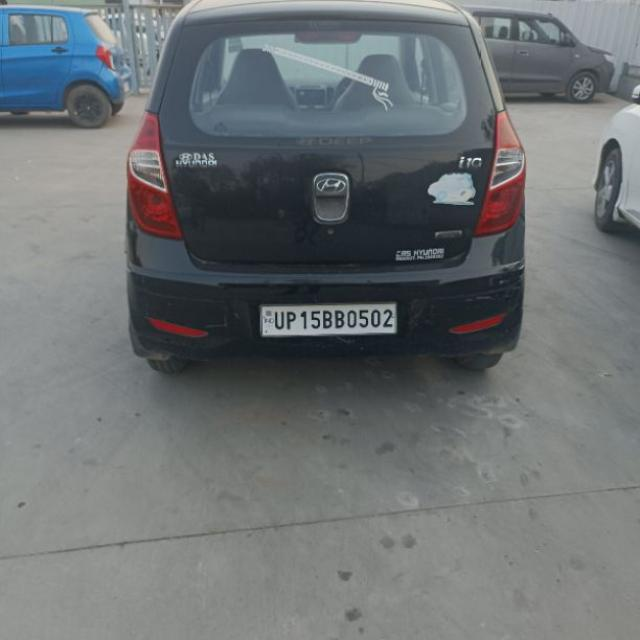license_plate: (257, 300, 398, 338)
